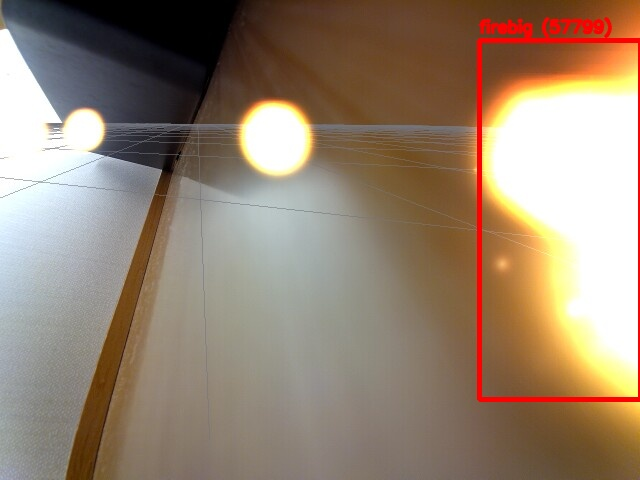firebig: (479, 40, 640, 399)
